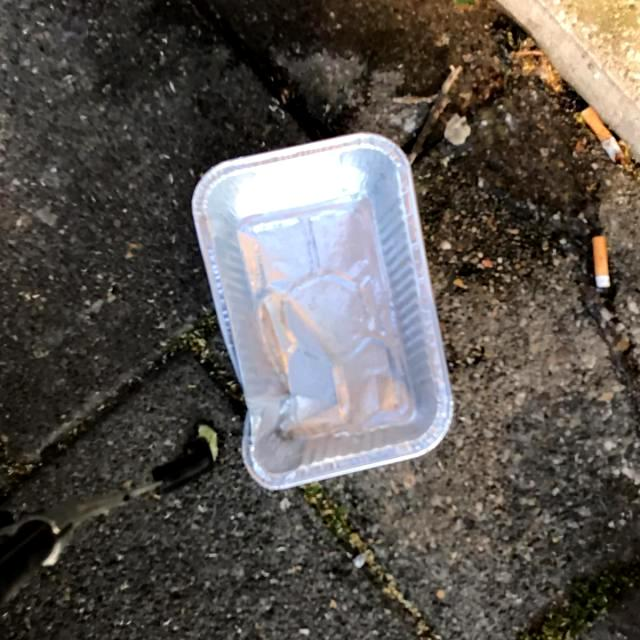Metal: (187, 130, 457, 492)
